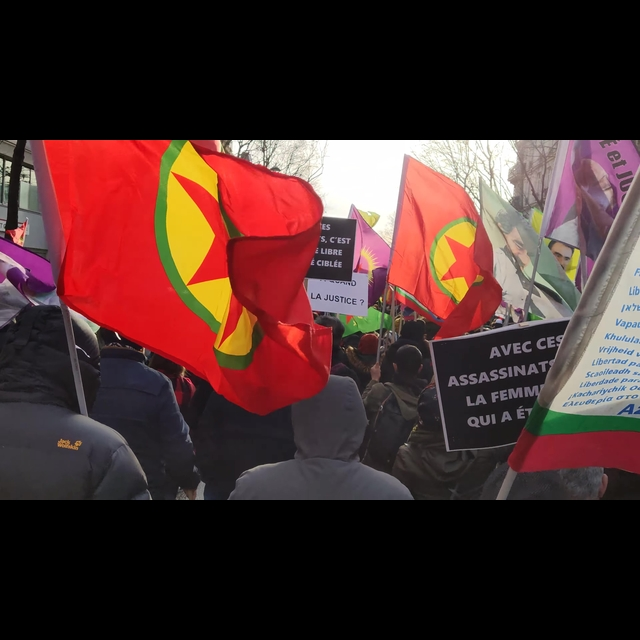PKK: (21, 135, 333, 416), (385, 153, 502, 346)
